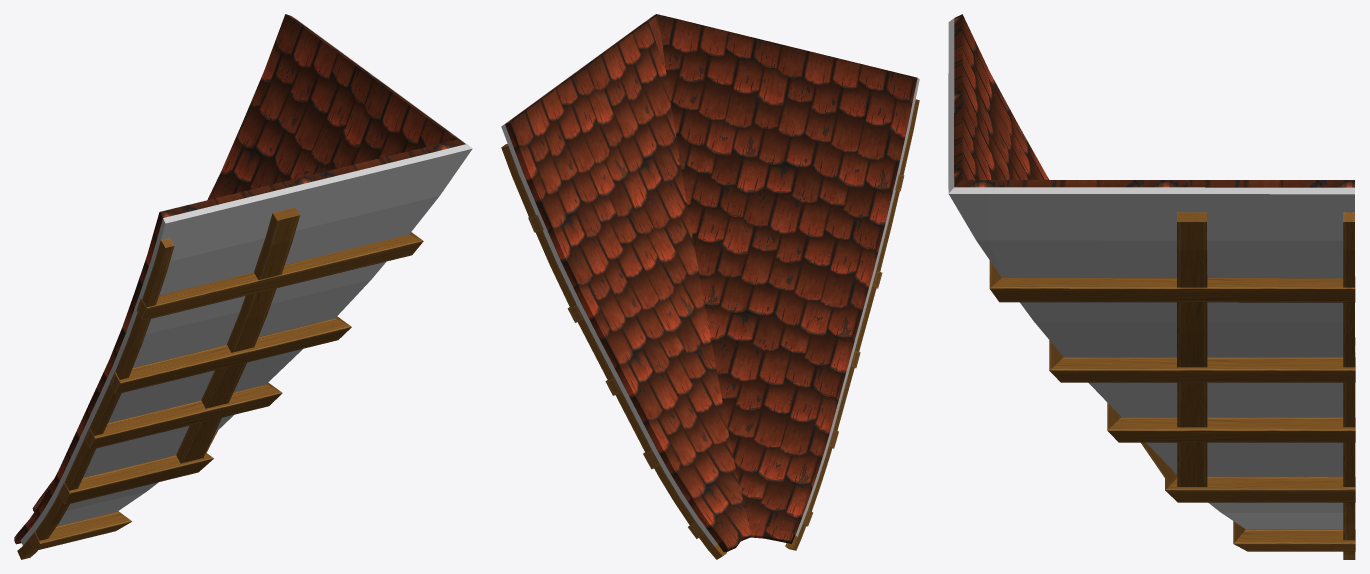
The model's file is SM_House_Roof_01_Corner_Inner_Extended.fbx.
The picture shows the model from 3 angles, left to right: view 1: azimuth 30°, elevation 25°; view 2: azimuth 150°, elevation 25°; view 3: azimuth 270°, elevation 25°; orthographic projection. The views are drawn at different scales.
Parts seen in each view (by area): view 1: SM_House_Roof_01_Corner_Inner_Extended; view 2: SM_House_Roof_01_Corner_Inner_Extended; view 3: SM_House_Roof_01_Corner_Inner_Extended.
Boxes of the visible parts, left/top/right/bottom form: SM_House_Roof_01_Corner_Inner_Extended: left=14, top=14, right=472, bottom=559; SM_House_Roof_01_Corner_Inner_Extended: left=501, top=14, right=919, bottom=559; SM_House_Roof_01_Corner_Inner_Extended: left=948, top=14, right=1355, bottom=559.
Bounding box in the file's own units: 5.02 × 6.97 × 5.01.
